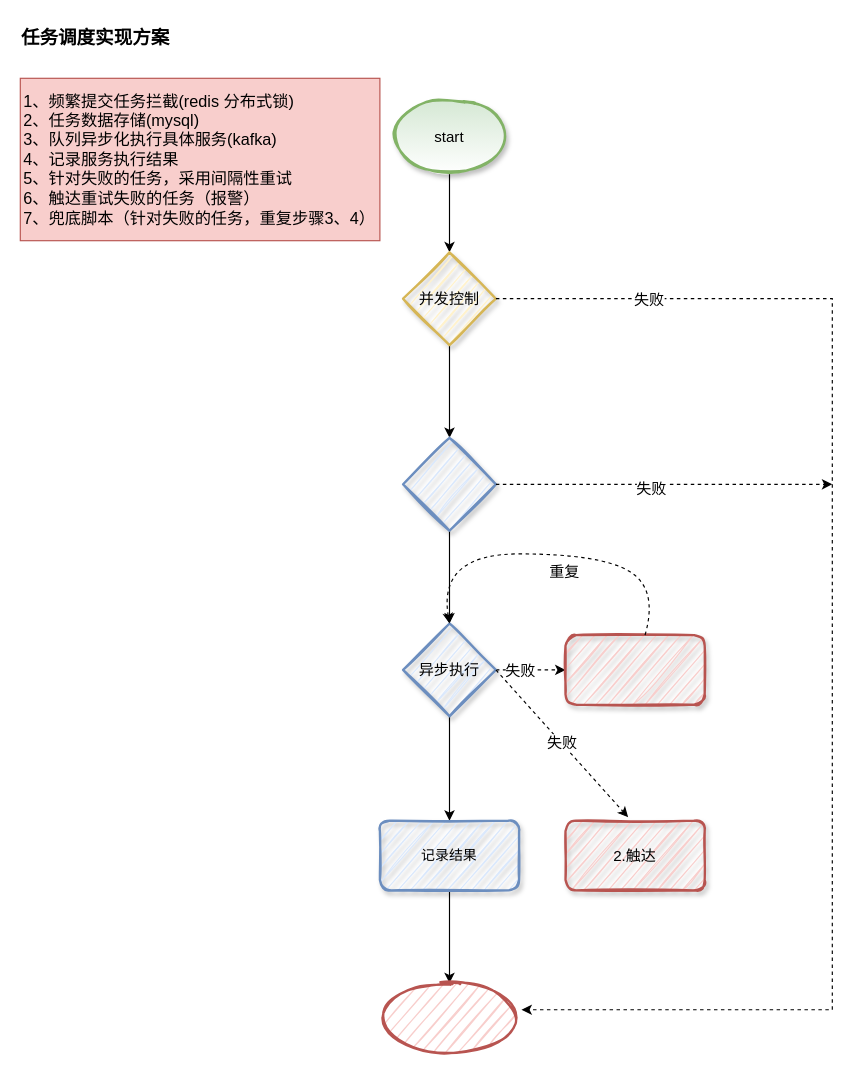
The diagram is 862 pixels wide and 1073 high, and some of its shapes have lost their labels. Here are the shapes that lost their labels. From the top down, the centre of each, then its label:
At point (450, 485): "任务存储".
At point (635, 671): "1.兜底".
At point (449, 1017): "end".
